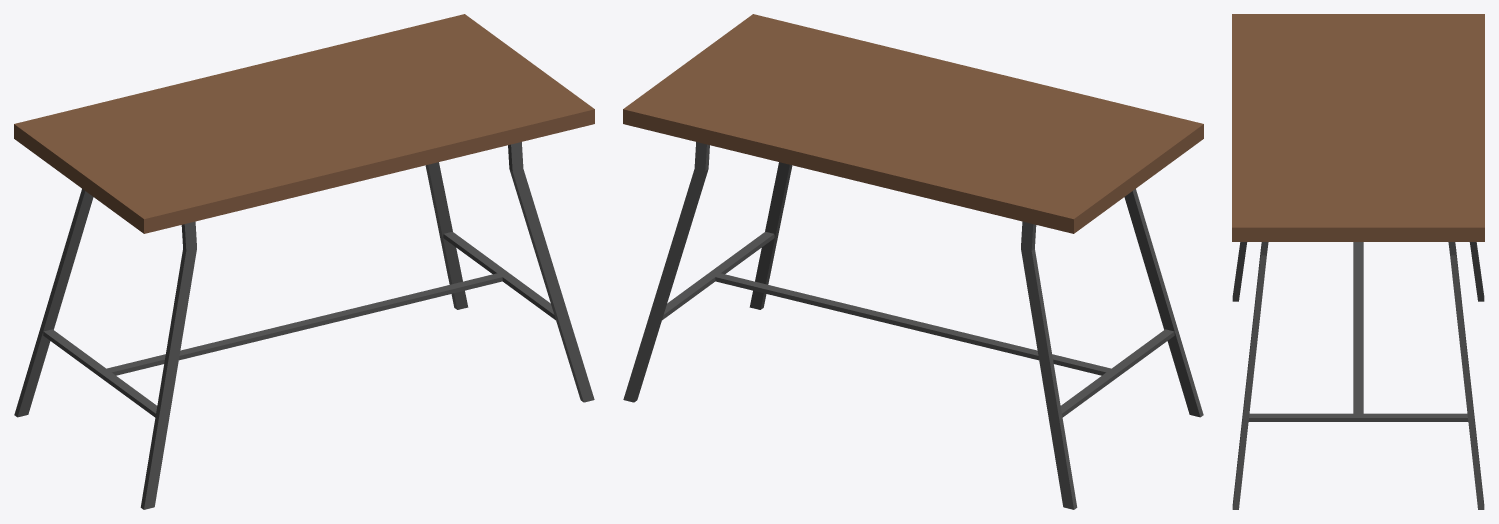
The model's file is desk6.fbx.
The picture shows the model from 3 angles, left to right: view 1: azimuth 30°, elevation 25°; view 2: azimuth 150°, elevation 25°; view 3: azimuth 270°, elevation 25°; orthographic projection. The views are drawn at different scales.
Visible parts, largest first — view 1: desk6; view 2: desk6; view 3: desk6.
Boxes of the visible parts, box(x1,y1,x2,y2) form: desk6: box(14, 14, 594, 509); desk6: box(623, 14, 1203, 509); desk6: box(1232, 14, 1484, 509).
Bounding box in the file's own units: 120 × 74 × 60.
